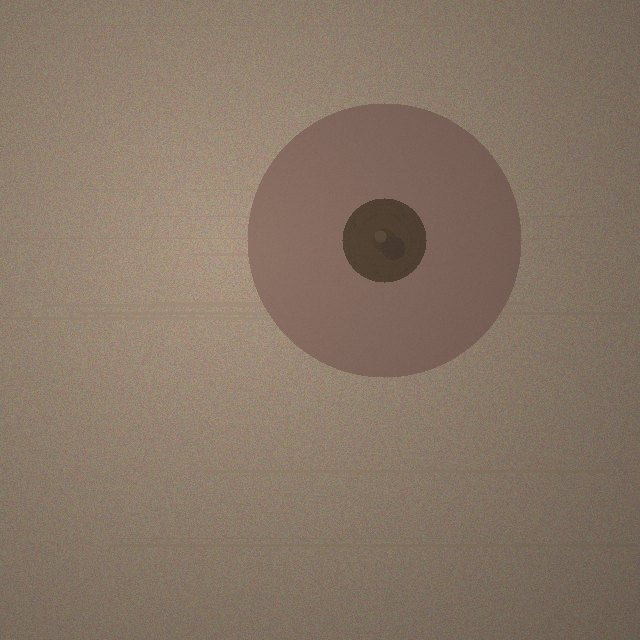cold_weld: (247, 103, 521, 377)
